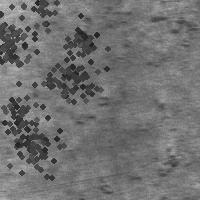rolled-in_scale: (23, 85, 181, 190), (29, 36, 113, 120), (0, 105, 76, 189), (0, 73, 61, 167), (45, 13, 200, 46), (0, 0, 79, 47), (1, 118, 76, 160), (0, 12, 37, 76), (61, 17, 103, 59)
